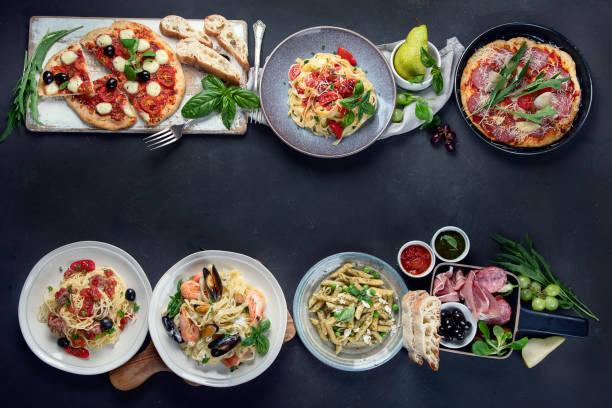Braised Crucian Carp: (23, 13, 247, 135), (148, 250, 286, 388), (454, 22, 594, 158), (257, 24, 395, 158), (16, 240, 151, 375), (292, 251, 410, 372)
